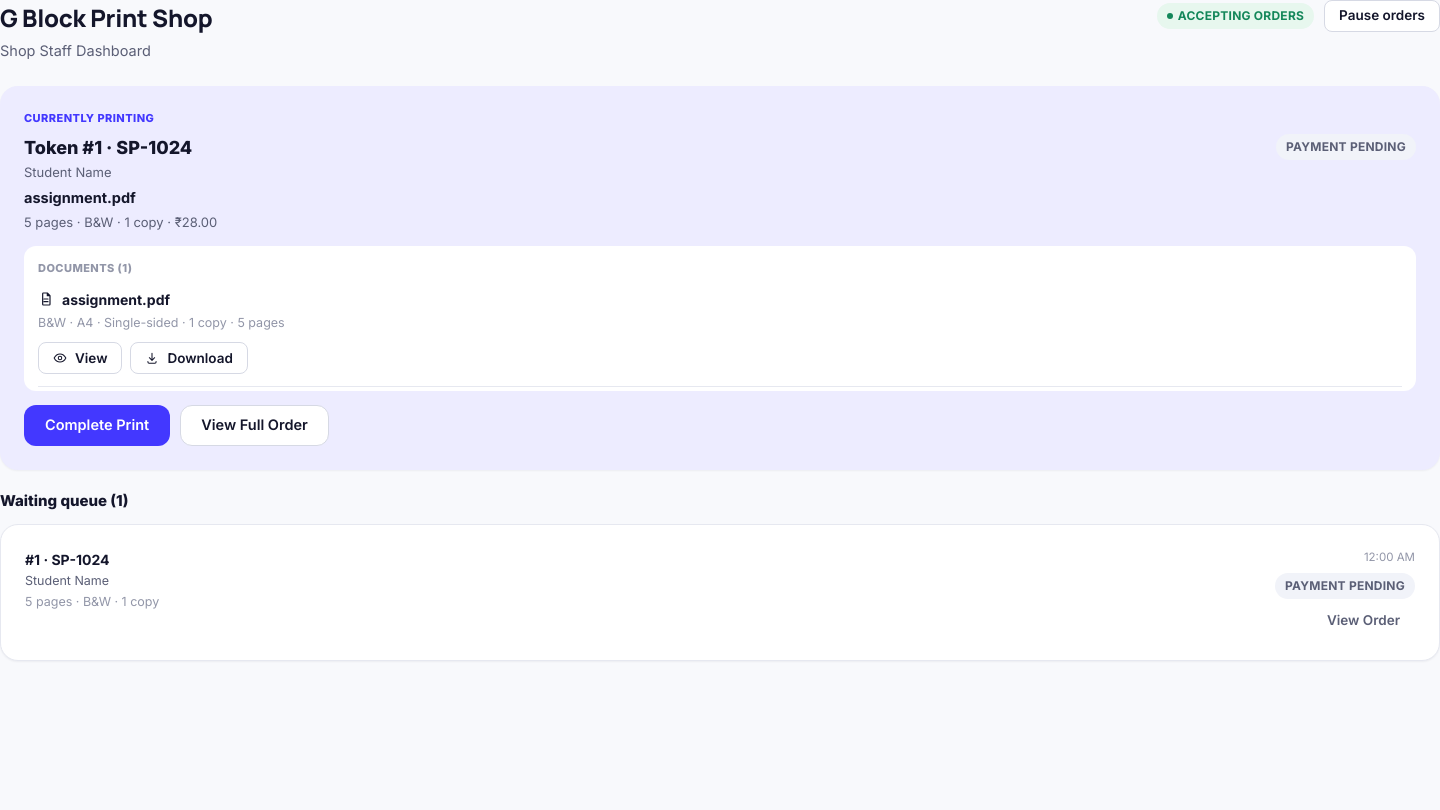
StaffDashboardPage - Current Printing shows real, downloadable documents › shows an error message when the view request fails from Current Printing
This screenshot has width=1440, height=810.
Click the button "View": (80, 358) [38,342,122,374]
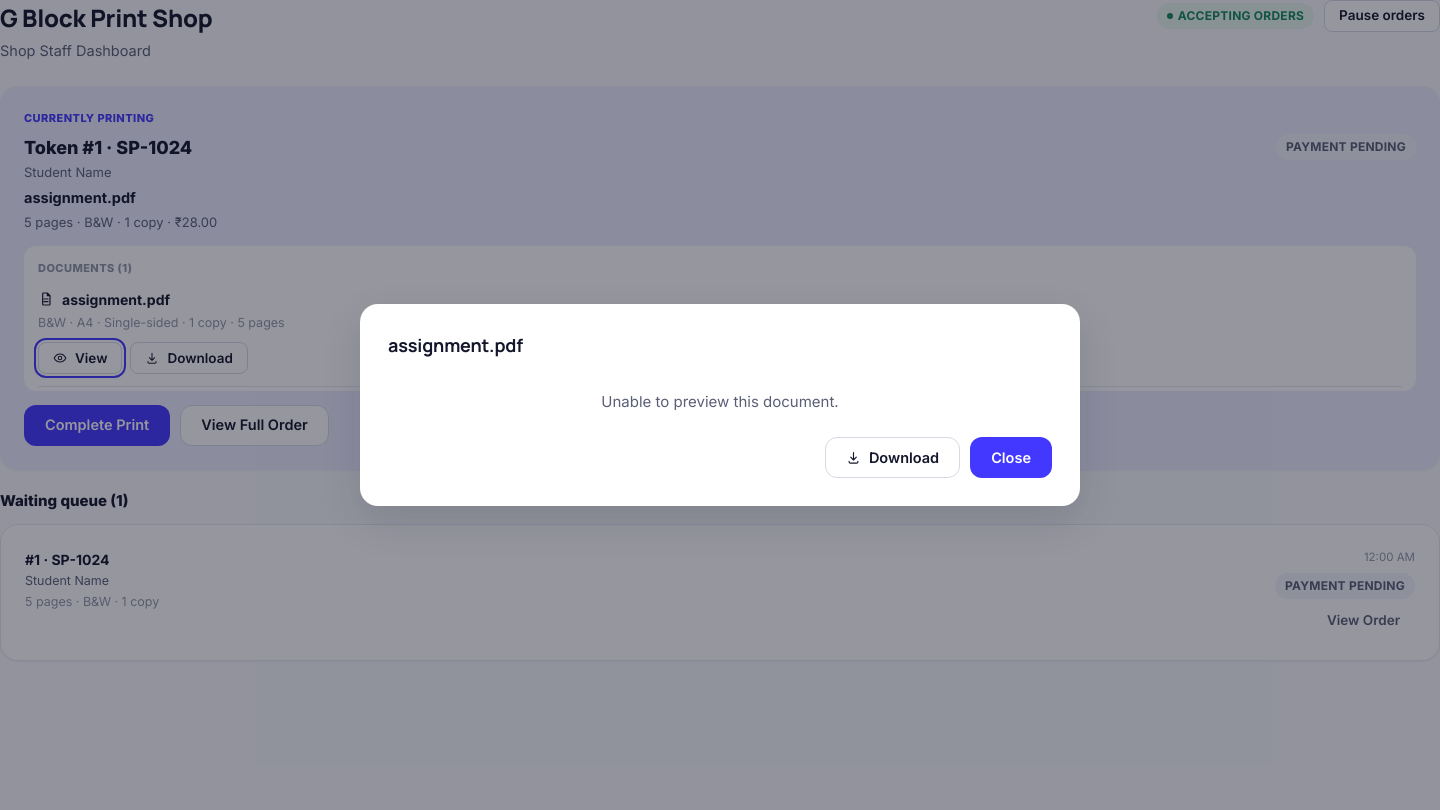
Check: the text "Unable to preview this document." is shown, box [601,392,839,411]
